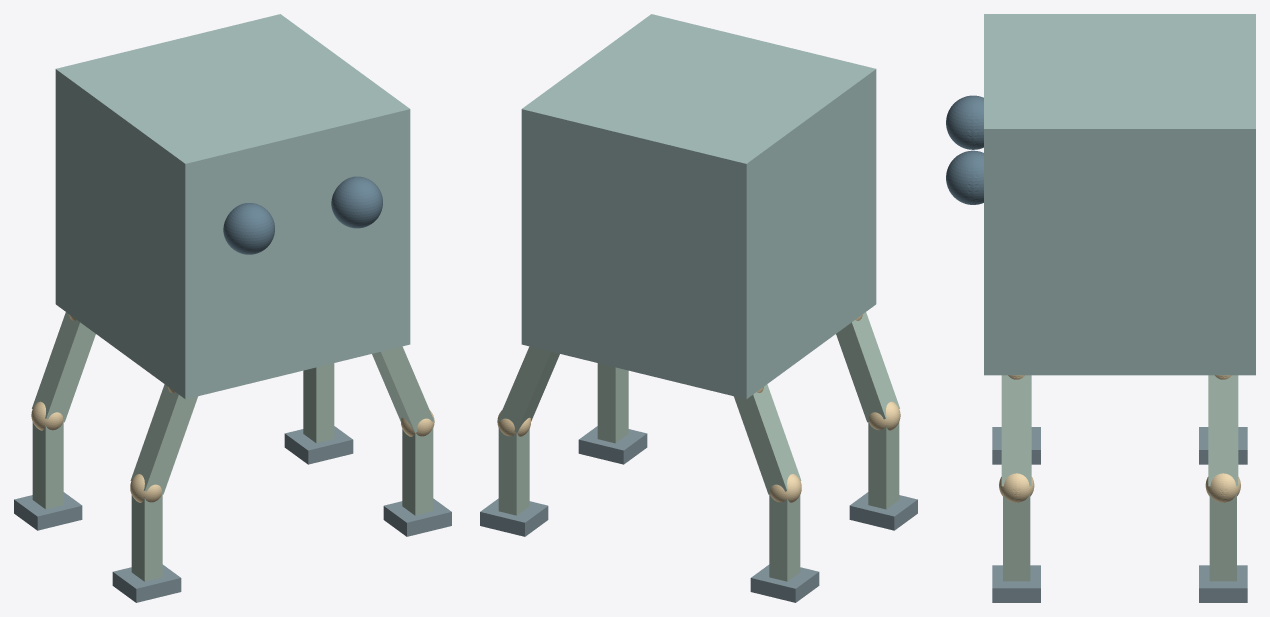
3 views of the same model, side by side, from view 1: azimuth 30°, elevation 25°; view 2: azimuth 150°, elevation 25°; view 3: azimuth 270°, elevation 25° (orthographic). The views are drawn at different scales.
Parts seen in each view (by area): view 1: Robot body, Lower leg (×4), Upper leg (×3), Foot (×4), Camera eye 2, Camera eye 1, Knee joint (×2); view 2: Robot body, Lower leg (×4), Upper leg (×3), Foot (×4), Knee joint (×2); view 3: Robot body, Upper leg (×2), Lower leg (×2), Foot (×4), Camera eye 1, Camera eye 2, Knee joint (×2).
Boxes of the visible parts, x1,y1,x2,y2 form: Robot body: (55, 14, 410, 399); Lower leg (×4): (32, 363, 433, 581); Upper leg (×3): (32, 312, 433, 494); Foot (×4): (14, 426, 451, 602); Camera eye 2: (331, 176, 382, 228); Camera eye 1: (223, 203, 274, 254); Knee joint (×2): (31, 401, 161, 502); Robot body: (521, 14, 876, 399); Lower leg (×4): (498, 363, 899, 581); Upper leg (×3): (498, 312, 899, 494); Foot (×4): (480, 426, 917, 602); Knee joint (×2): (770, 401, 900, 502); Robot body: (984, 14, 1255, 375); Upper leg (×2): (1001, 375, 1238, 486); Lower leg (×2): (1003, 493, 1236, 581); Foot (×4): (992, 427, 1247, 602); Camera eye 1: (946, 95, 983, 149); Camera eye 2: (946, 150, 983, 204); Knee joint (×2): (999, 473, 1240, 502).
Bounding box in the file's own units: 0.2806 × 0.366 × 0.228.
